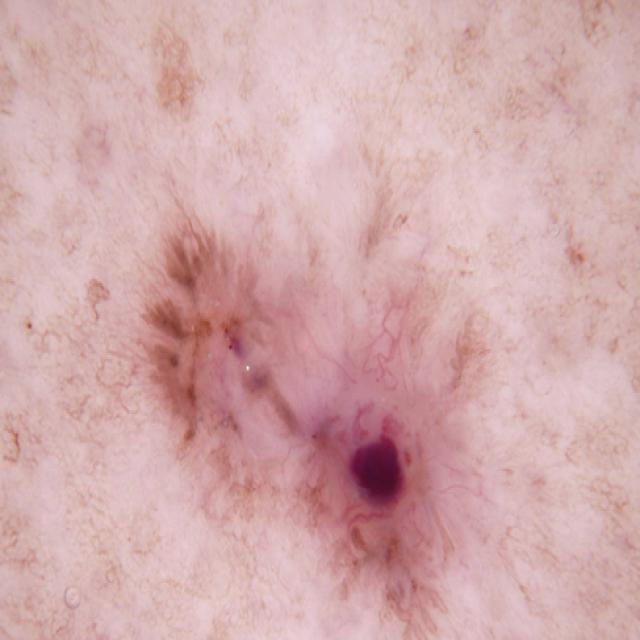Carcinoma: (93, 157, 597, 640)
